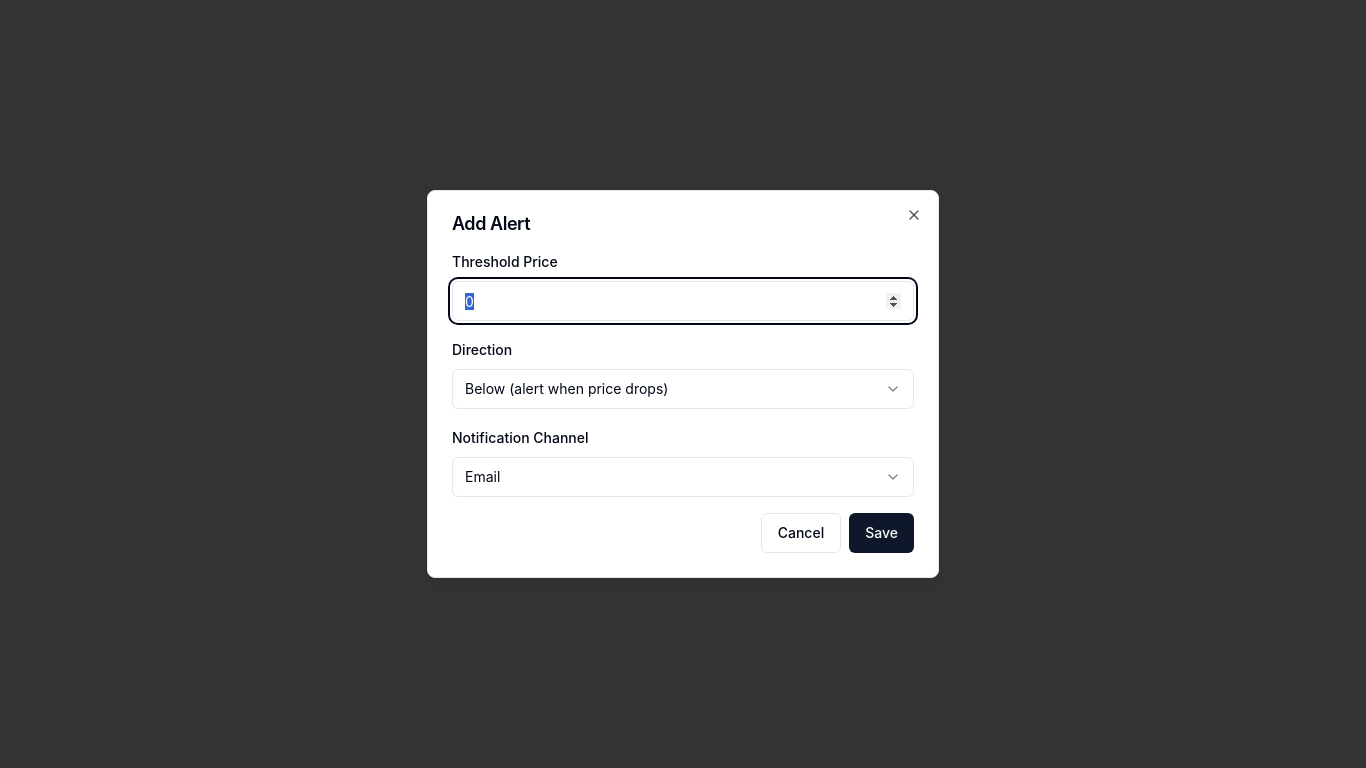
Test: AlertFormDialog › invalid whatsapp number shows FormMessage
Click the dropdown labelled "Email" at [483, 476], box [452,457,914,497]
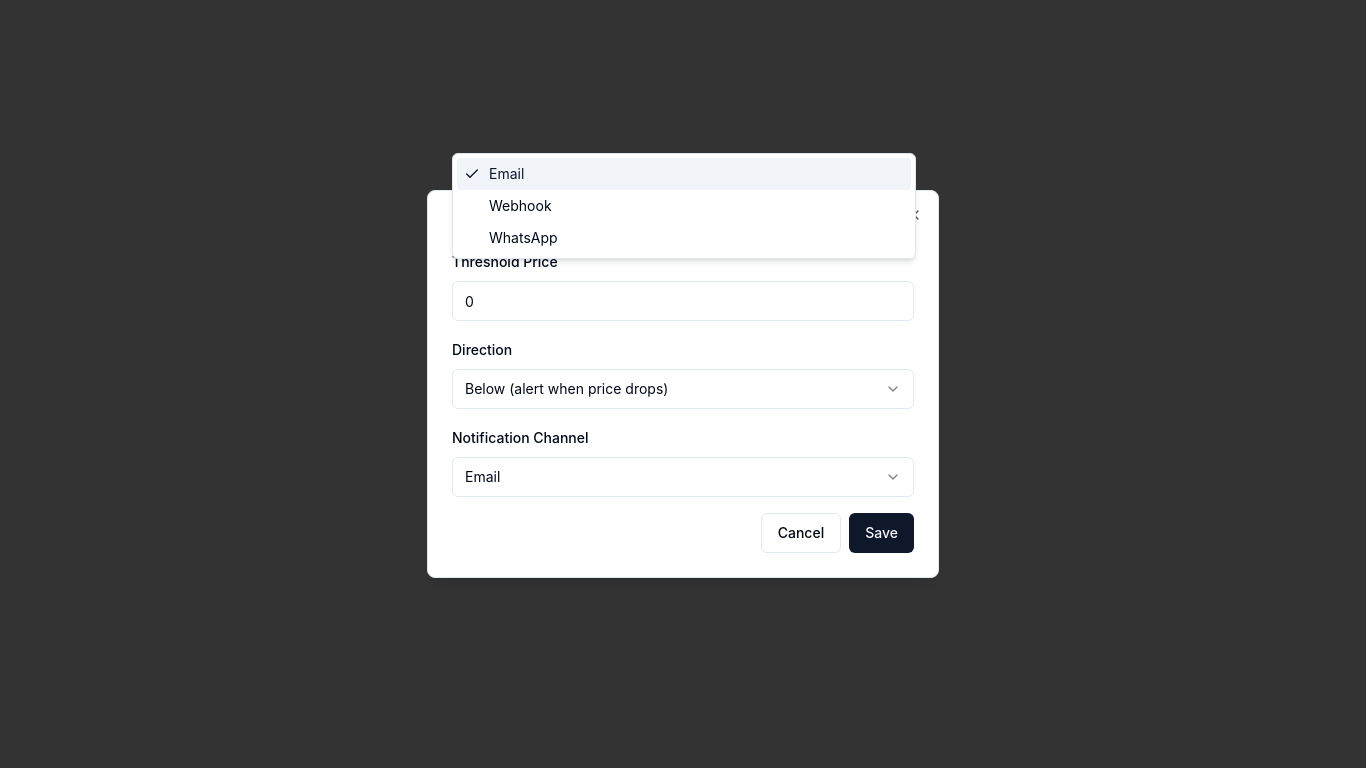
Click the option "WhatsApp" at [523, 238], box [489,229,558,246]
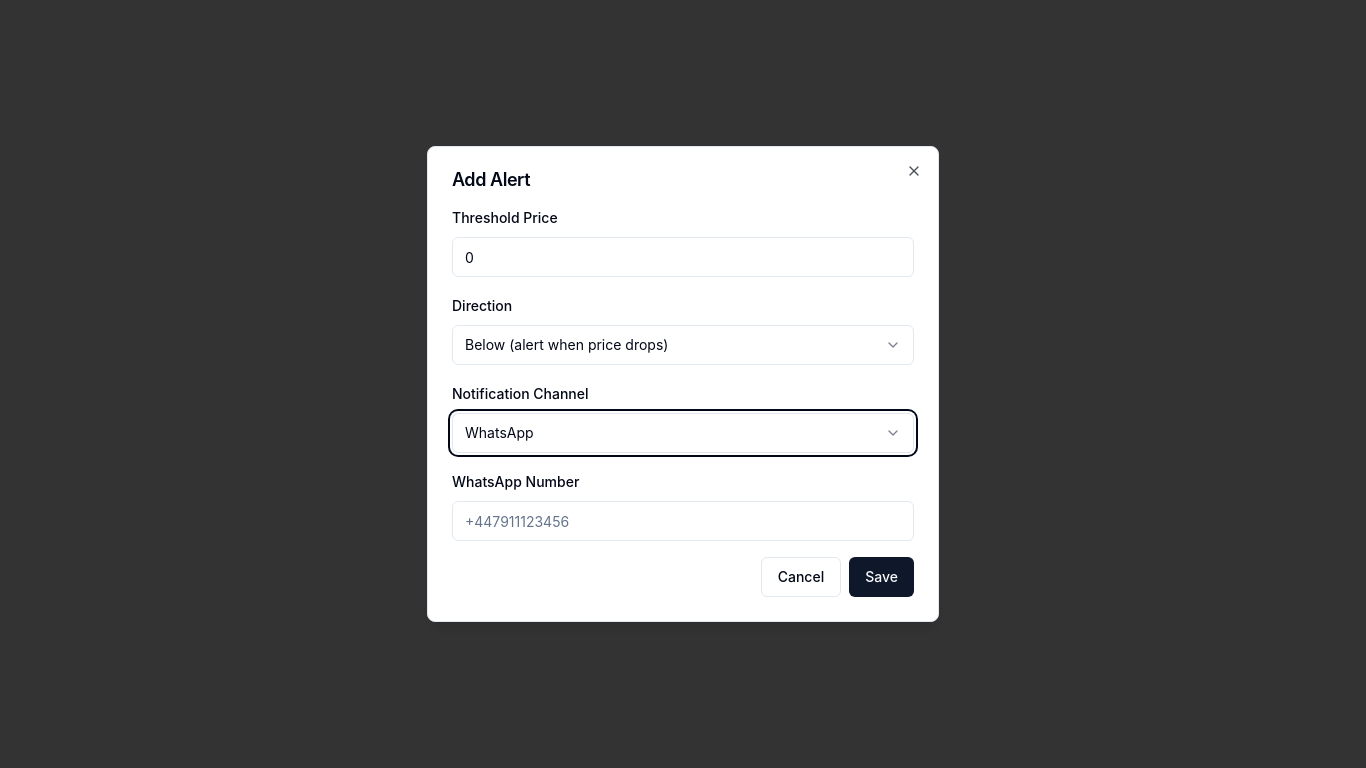
Type "12345" into the field with placeholder "+447911123456" at [683, 521], box [452,501,914,541]
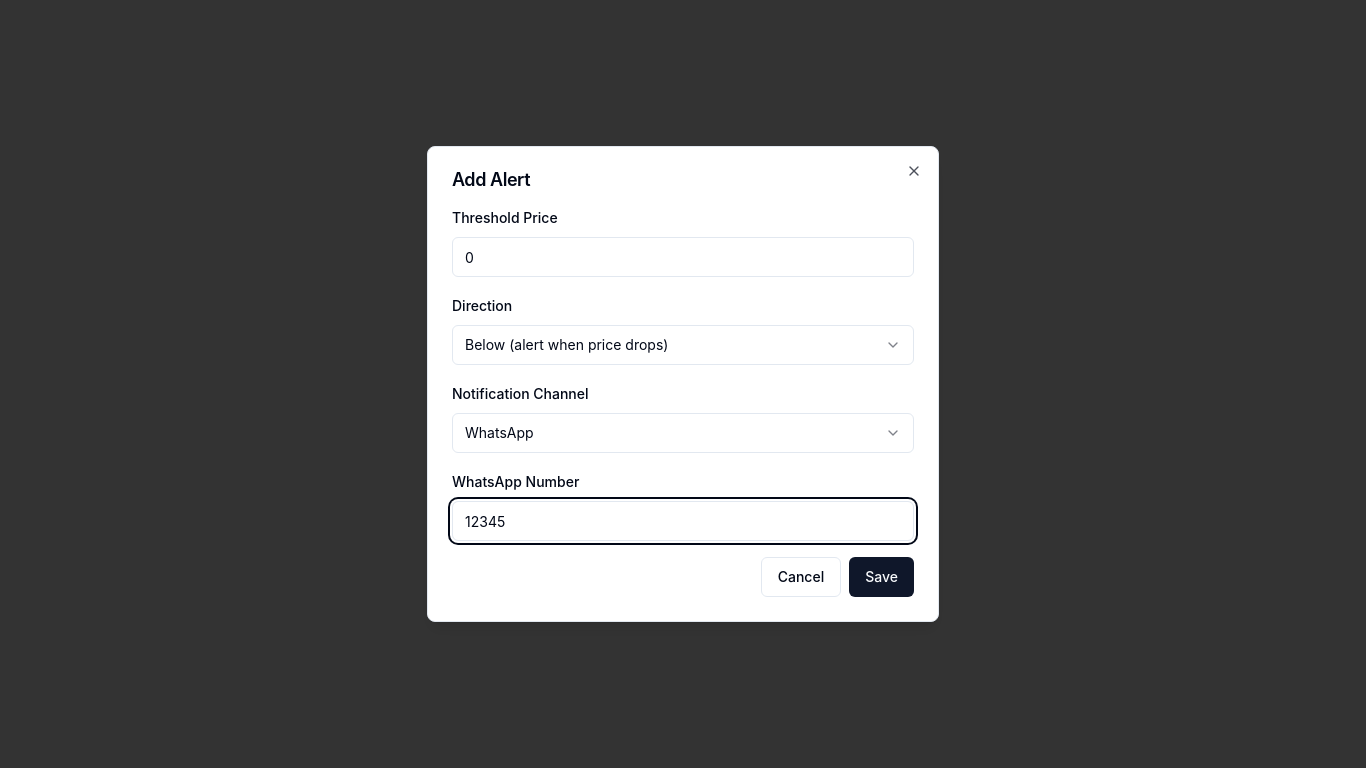
Replace the text in the number field with placeholder "9.99" with "10" at [683, 257], box [452,237,914,277]
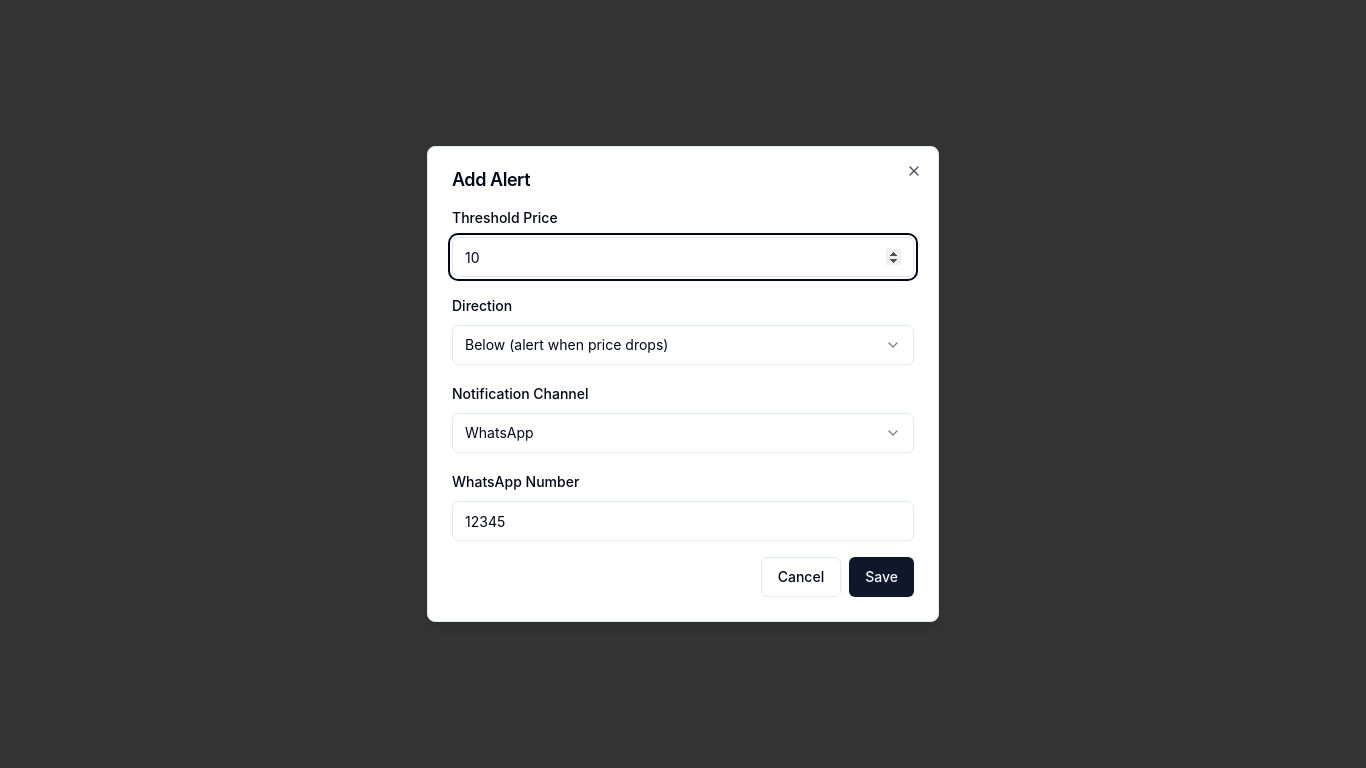
Click the button "Save" at [882, 577], box [849,557,914,597]
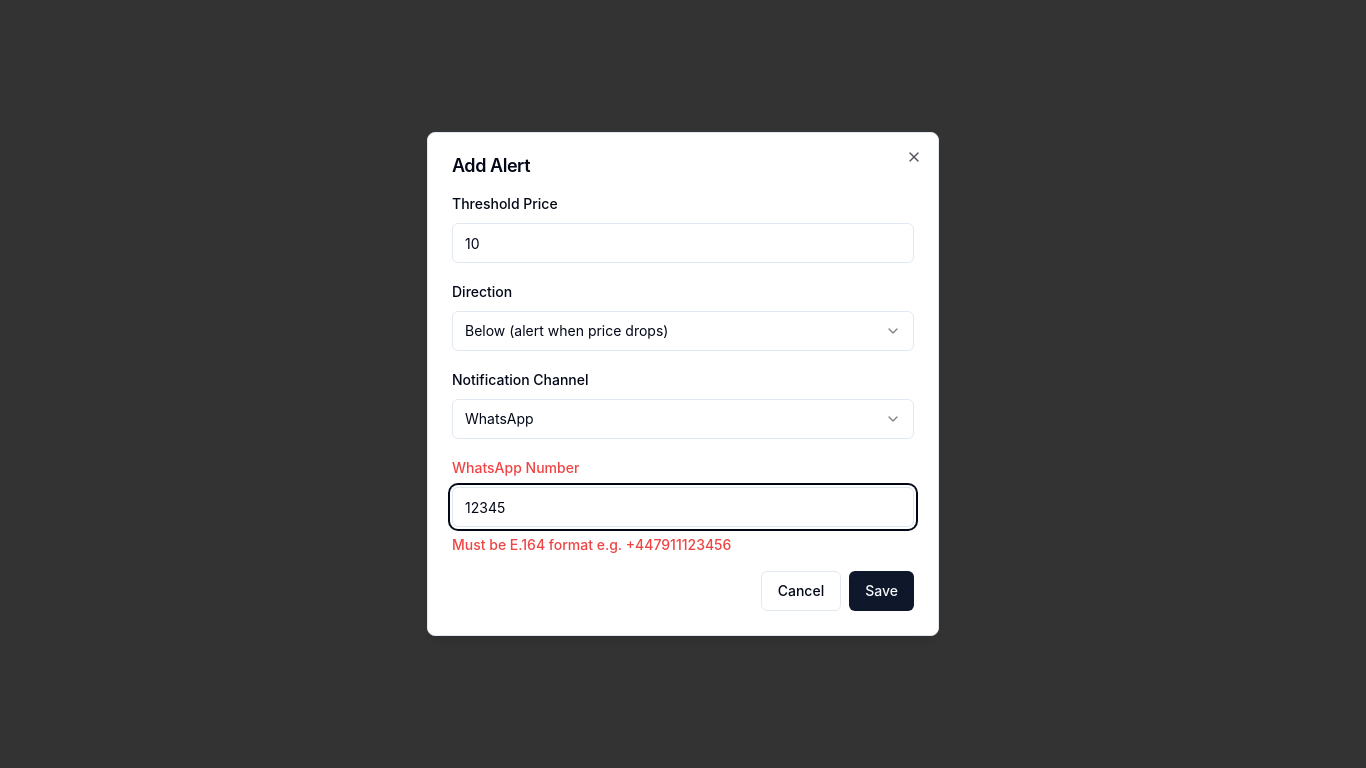
Check: the text "Must be E.164 format e.g. +447911123456" is shown, box [452,536,731,553]
